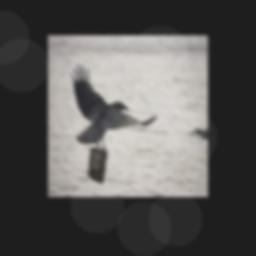Crow: (70, 63, 157, 149)
